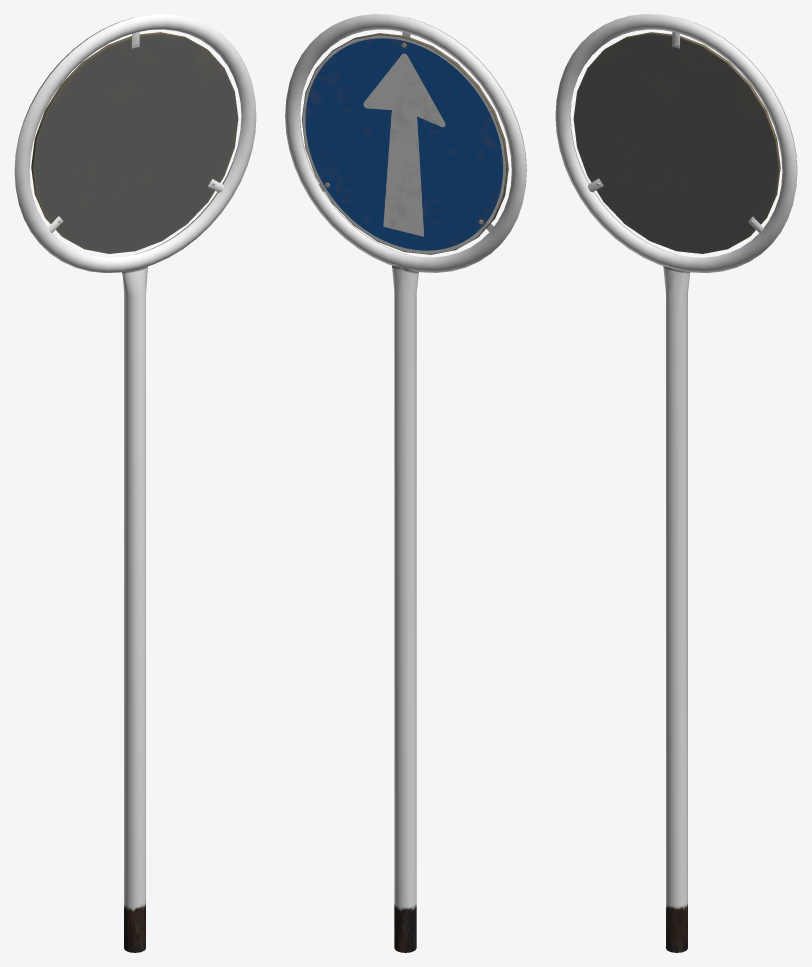
Rendered from SM_Sign_CH_Einbahn_gerade.glb.
3 renders of one model, left to right at view 1: azimuth 30°, elevation 25°; view 2: azimuth 150°, elevation 25°; view 3: azimuth 330°, elevation 25°, orthographic.
Visible parts, largest first — view 1: SM_Sign_CH_Round; view 2: SM_Sign_CH_Round; view 3: SM_Sign_CH_Round.
Part boxes in pixels (x1,y1,x2,y2): SM_Sign_CH_Round: [14, 14, 256, 952]; SM_Sign_CH_Round: [285, 14, 526, 952]; SM_Sign_CH_Round: [555, 14, 797, 952].
Bounding box in the file's own units: 0.7519 × 2.77 × 0.06.
2 materials, 2 textured.
